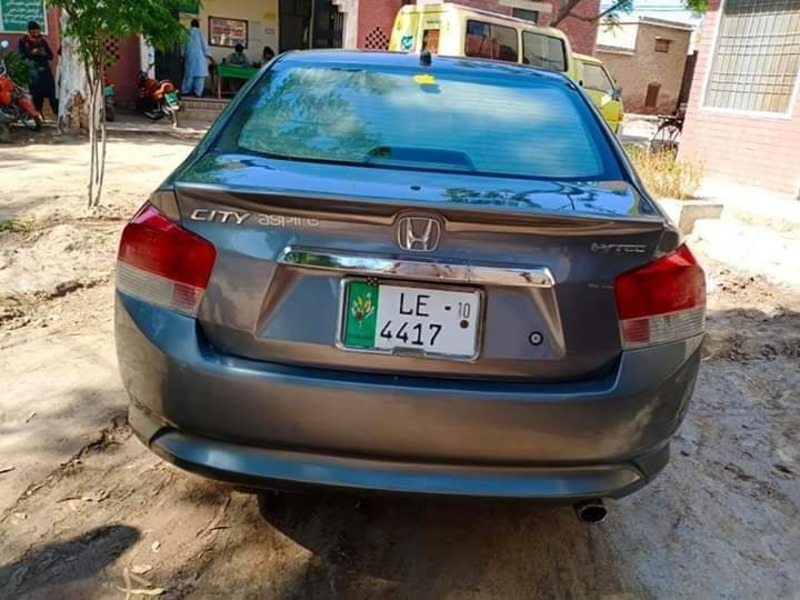License Plate: (334, 274, 489, 366)
